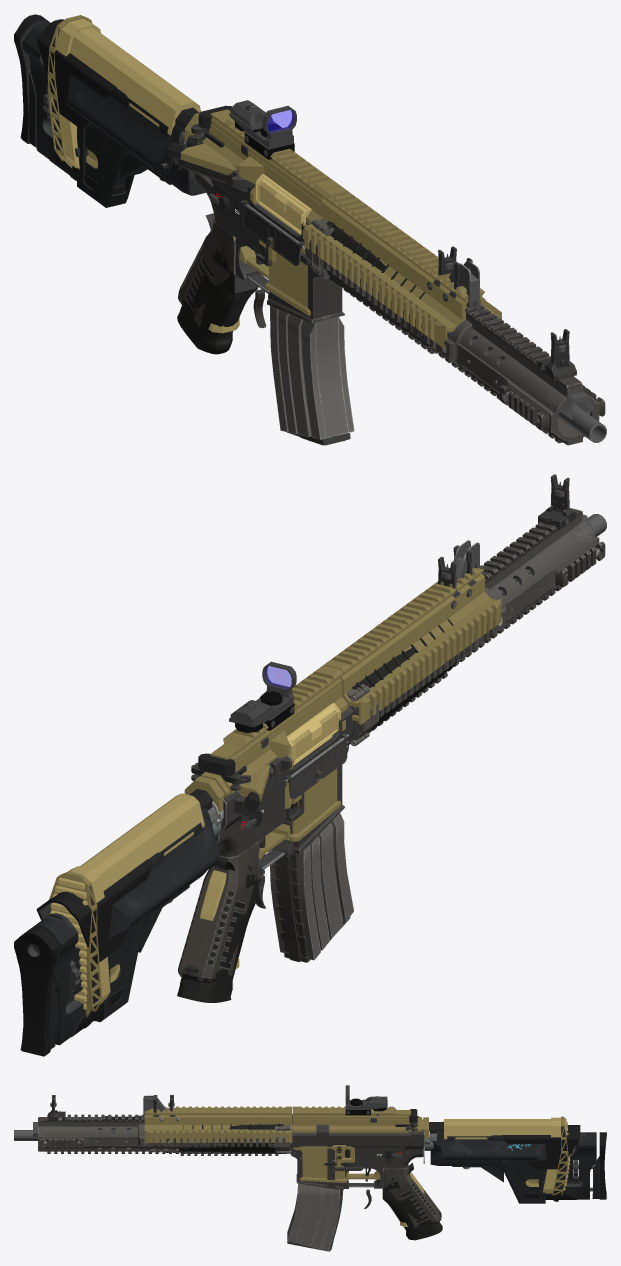
3 views of the same model, one above another, from view 1: azimuth 30°, elevation 25°; view 2: azimuth 150°, elevation 25°; view 3: azimuth 270°, elevation 25° (orthographic). The views are drawn at different scales.
Visible parts, largest first — view 1: hk416, ar_hg_m16a4, ar_st_a2, m4a1, ar_st_hk416, mag_stanag60, ar_st_m4, ar_pg_ergo, mag_pmag30, ar_hg_m4, ar_st_ctr, ar_hg_ris (+3 smaller); view 2: hk416, ar_st_a2, ar_hg_m16a4, m4a1, ar_st_hk416, mag_stanag60, ar_st_m4, ar_pg_moe, mag_stanag30, ar_pg_ergo, ar_hg_ris, ar_hg_m4 (+4 smaller); view 3: hk416, ar_st_a2, m4a1, ar_hg_m16a4, ar_st_hk416, mag_stanag60, ar_st_m4, ar_hg_m4, ar_hg_ris, ar_pg_moe, ar_pg_ergo, ar_st_ctr (+3 smaller).
Boxes of the visible parts, x1=… form: hk416: x1=167, y1=100, x2=593, y2=419; ar_hg_m16a4: x1=322, y1=263, x2=606, y2=445; ar_st_a2: x1=14, y1=14, x2=205, y2=195; m4a1: x1=173, y1=103, x2=344, y2=328; ar_st_hk416: x1=47, y1=15, x2=201, y2=169; mag_stanag60: x1=270, y1=305, x2=354, y2=439; ar_st_m4: x1=66, y1=73, x2=184, y2=184; ar_pg_ergo: x1=177, y1=213, x2=258, y2=354; mag_pmag30: x1=315, y1=317, x2=348, y2=438; ar_hg_m4: x1=321, y1=221, x2=479, y2=353; ar_st_ctr: x1=77, y1=88, x2=185, y2=207; ar_hg_ris: x1=305, y1=218, x2=472, y2=370; hk416: x1=184, y1=514, x2=593, y2=859; ar_st_a2: x1=14, y1=822, x2=221, y2=1056; ar_hg_m16a4: x1=349, y1=474, x2=606, y2=743; m4a1: x1=191, y1=696, x2=353, y2=908; ar_st_hk416: x1=49, y1=788, x2=212, y2=1017; mag_stanag60: x1=270, y1=813, x2=353, y2=960; ar_st_m4: x1=84, y1=807, x2=219, y2=1028; ar_pg_moe: x1=178, y1=842, x2=258, y2=981; mag_stanag30: x1=273, y1=853, x2=350, y2=962; ar_pg_ergo: x1=177, y1=860, x2=258, y2=1002; ar_hg_ris: x1=346, y1=545, x2=505, y2=746; ar_hg_m4: x1=347, y1=540, x2=479, y2=744; hk416: x1=33, y1=1085, x2=428, y2=1182; ar_st_a2: x1=424, y1=1125, x2=606, y2=1199; m4a1: x1=290, y1=1096, x2=429, y2=1208; ar_hg_m16a4: x1=14, y1=1095, x2=286, y2=1153; ar_st_hk416: x1=417, y1=1116, x2=570, y2=1195; mag_stanag60: x1=287, y1=1183, x2=339, y2=1251; ar_st_m4: x1=429, y1=1131, x2=558, y2=1201; ar_hg_m4: x1=143, y1=1095, x2=283, y2=1155; ar_hg_ris: x1=138, y1=1095, x2=291, y2=1153; ar_pg_moe: x1=382, y1=1164, x2=441, y2=1227; ar_pg_ergo: x1=382, y1=1163, x2=442, y2=1240; ar_st_ctr: x1=427, y1=1135, x2=545, y2=1203.
Bounding box in the file's own units: 0.081 × 0.298 × 0.993.
25 materials, 14 textured.
